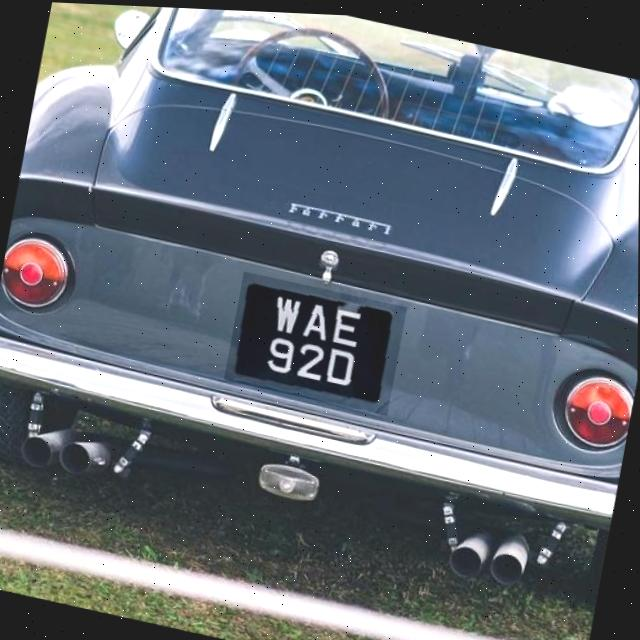LicensePlate: (224, 268, 407, 412)
